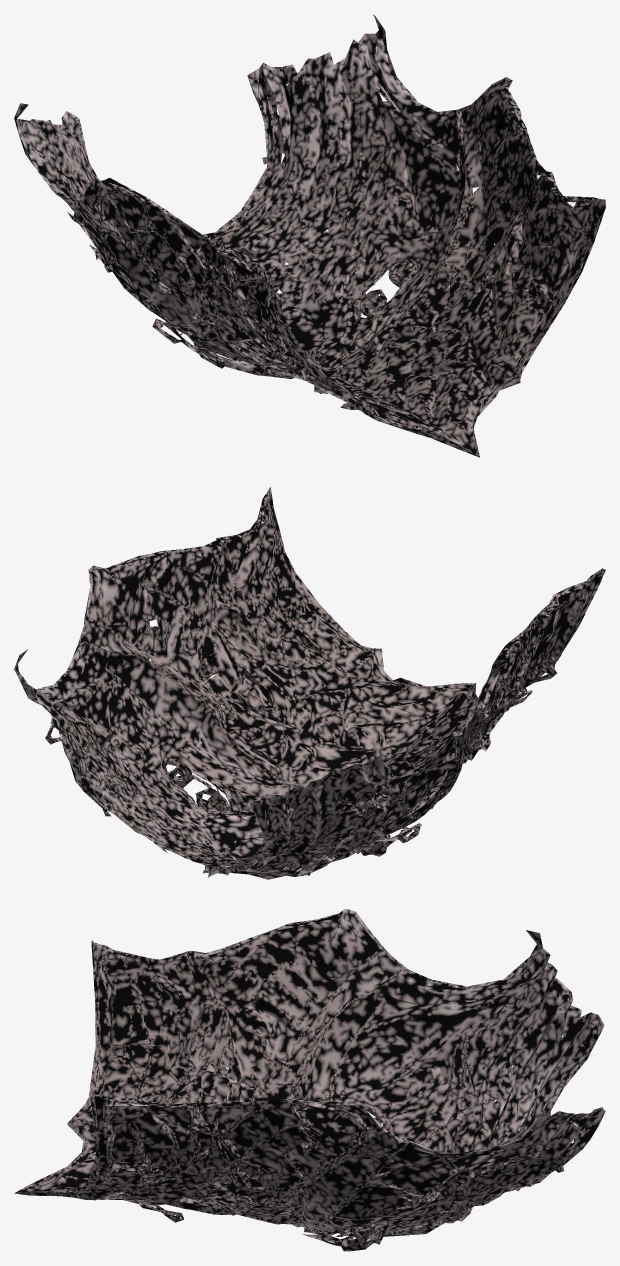
Rendered from vampire_chestplate_LOD1.glb.
3 views of the same model, one above another, from view 1: azimuth 30°, elevation 25°; view 2: azimuth 150°, elevation 25°; view 3: azimuth 270°, elevation 25° (orthographic). The views are drawn at different scales.
Visible parts, largest first — view 1: vampire_chestplate_LOD1; view 2: vampire_chestplate_LOD1; view 3: vampire_chestplate_LOD1.
Part boxes in pixels (bbox=[...]): vampire_chestplate_LOD1: bbox=[14, 14, 605, 457]; vampire_chestplate_LOD1: bbox=[14, 486, 605, 879]; vampire_chestplate_LOD1: bbox=[14, 908, 605, 1251].
Bounding box in the file's own units: 0.5914 × 0.3329 × 0.7757.
Materials: 1 (1 with a texture image).
